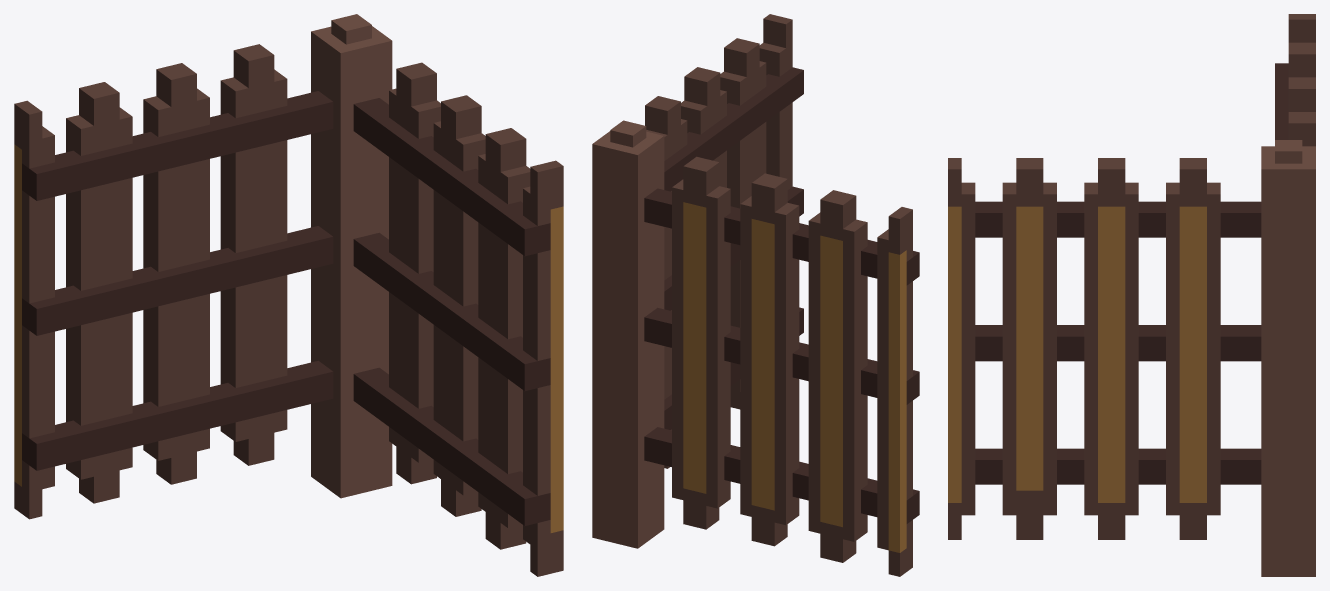
File: Fences-5-Fence Corner.obj
3 views of the same model, side by side, from view 1: azimuth 30°, elevation 25°; view 2: azimuth 150°, elevation 25°; view 3: azimuth 270°, elevation 25° (orthographic). The views are drawn at different scales.
Parts seen in each view (by area): view 1: Fence Corner; view 2: Fence Corner; view 3: Fence Corner.
Boxes of the visible parts, bbox=[...] form: Fence Corner: bbox=[14, 14, 563, 576]; Fence Corner: bbox=[592, 14, 919, 576]; Fence Corner: bbox=[948, 14, 1315, 576].
Size of the model in its own units: 2.7 by 3.4 by 2.7.
Materials: 1 (1 with a texture image).
